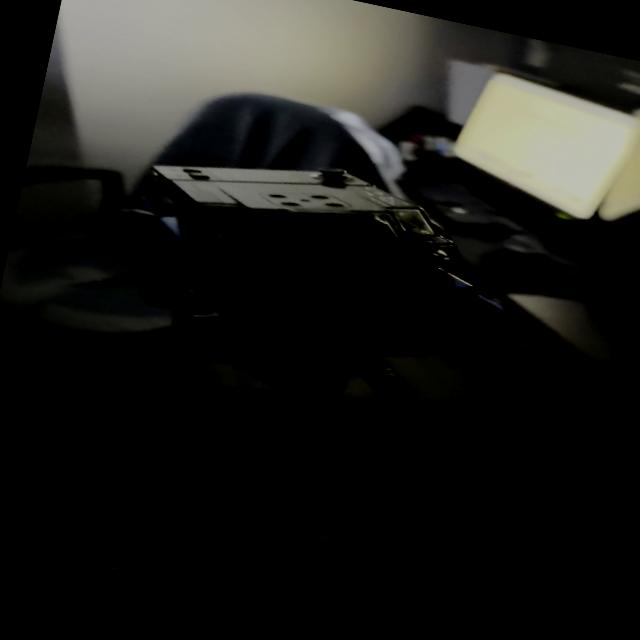mbot-detection: (78, 115, 552, 414)
